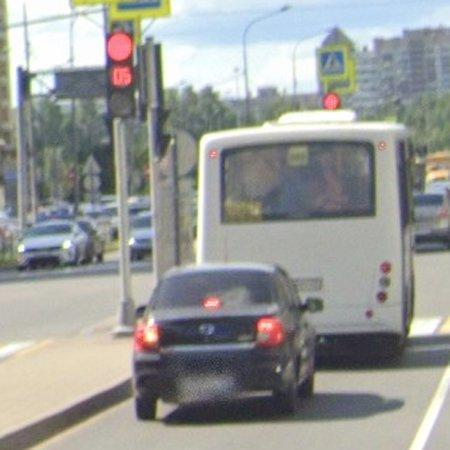buses: (198, 111, 415, 343)
